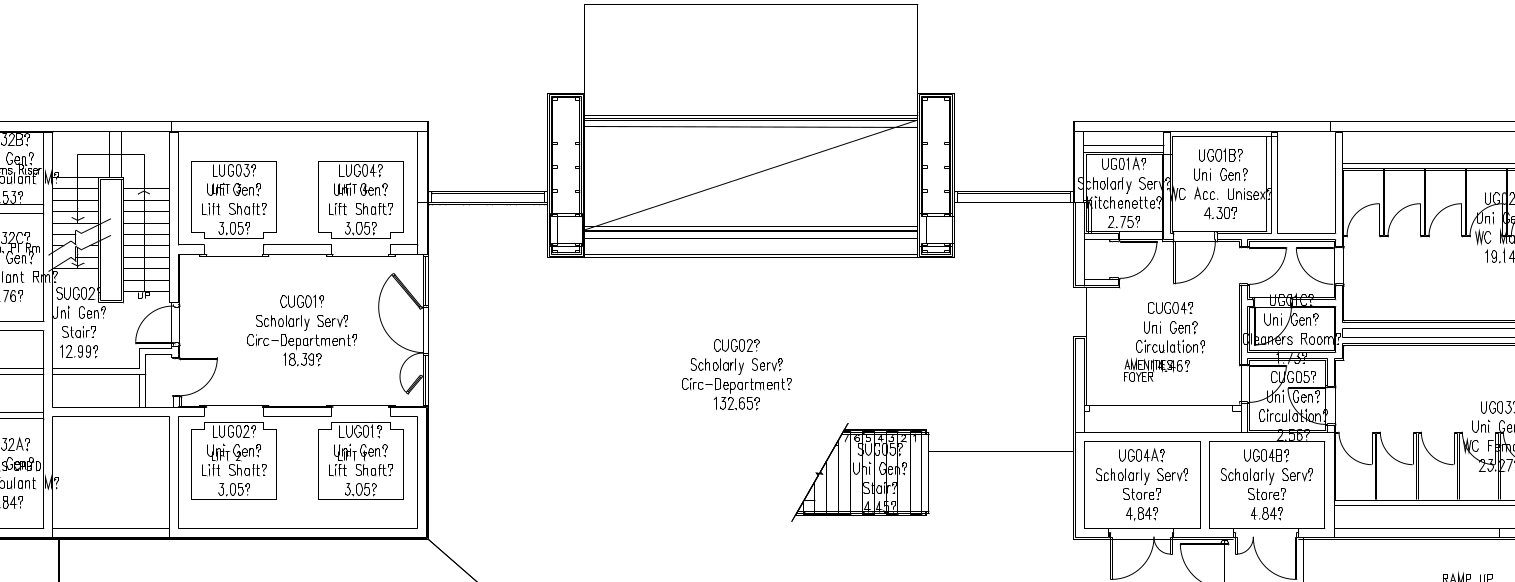door: (365, 265, 435, 400), (1229, 533, 1301, 582), (1104, 533, 1176, 582), (1163, 240, 1224, 290), (1234, 241, 1289, 289), (1292, 243, 1347, 291), (1106, 241, 1161, 284), (182, 348, 226, 400), (1342, 196, 1382, 242), (1384, 197, 1424, 243), (1424, 195, 1464, 241), (1417, 426, 1457, 472), (1378, 424, 1418, 470), (1335, 426, 1375, 472), (1464, 196, 1504, 242), (135, 302, 168, 345)
